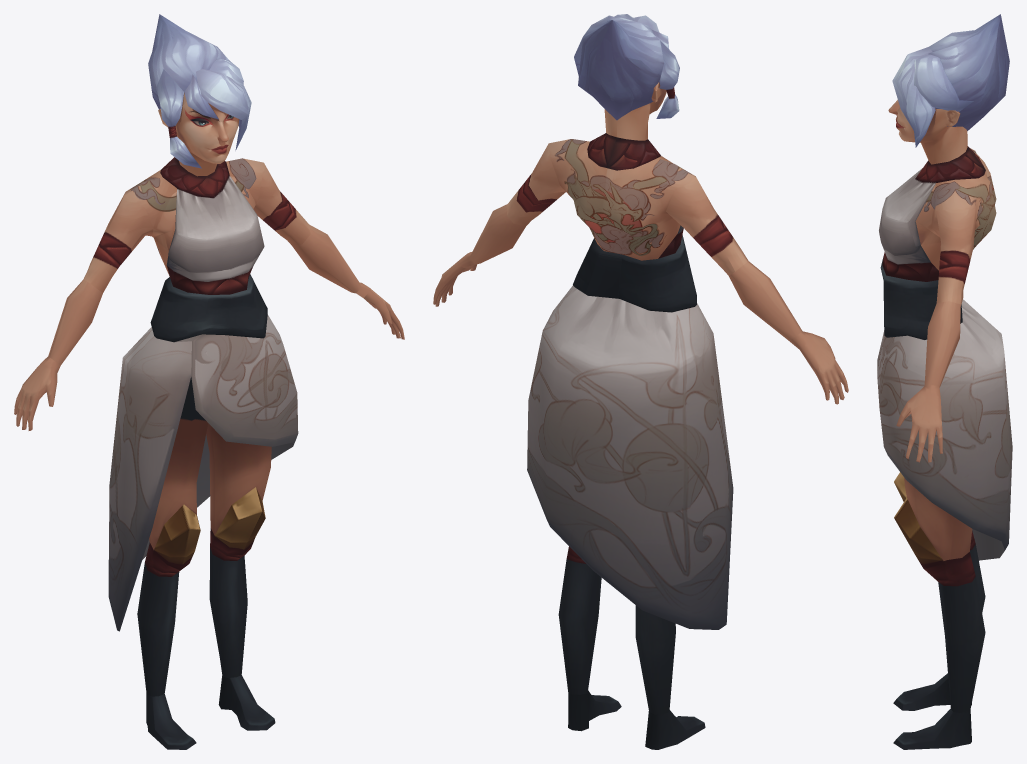
Rendered from Nami.glb.
3 views of the same model, side by side, from view 1: azimuth 30°, elevation 25°; view 2: azimuth 150°, elevation 25°; view 3: azimuth 270°, elevation 25° (orthographic). The views are drawn at different scales.
Visible parts, largest first — view 1: Character; view 2: Character; view 3: Character.
Part boxes in pixels (x1,y1,x2,y2): Character: (14, 14, 404, 749); Character: (433, 14, 848, 749); Character: (877, 14, 1012, 749).
Bounding box in the file's own units: 338 × 591 × 103.
Materials: 1 (1 with a texture image).
